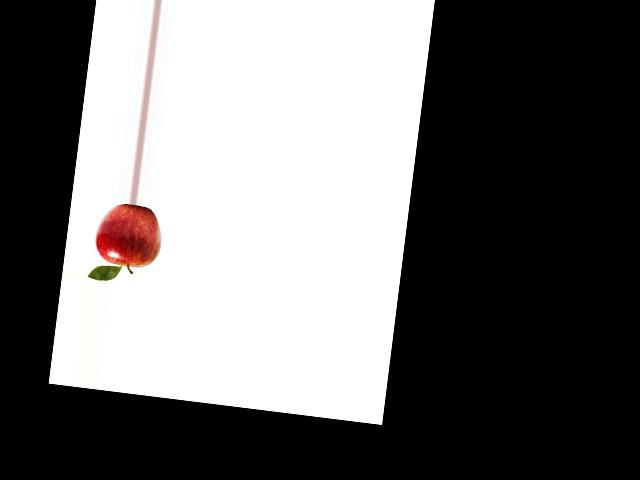apple: (88, 200, 166, 274)
